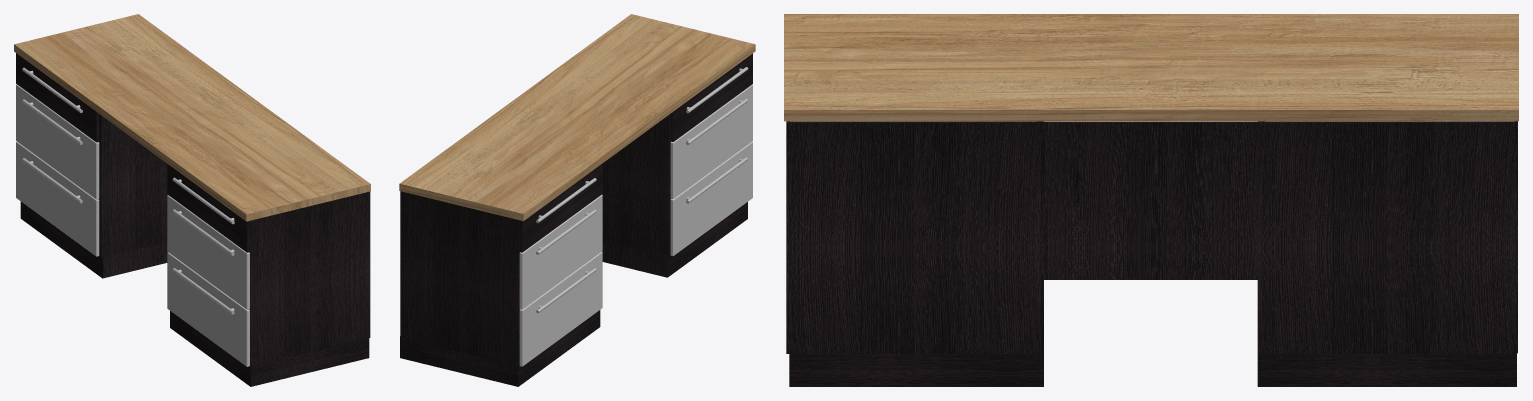
File: Kitchen Furniture 3.FBX
3 views of the same model, side by side, from view 1: azimuth 30°, elevation 25°; view 2: azimuth 150°, elevation 25°; view 3: azimuth 270°, elevation 25° (orthographic). The views are drawn at different scales.
Parts seen in each view (by area): view 1: Kitchen Furniture 3; view 2: Kitchen Furniture 3; view 3: Kitchen Furniture 3.
Boxes of the visible parts, bbox=[...] form: Kitchen Furniture 3: bbox=[14, 14, 370, 386]; Kitchen Furniture 3: bbox=[399, 14, 755, 386]; Kitchen Furniture 3: bbox=[784, 14, 1518, 386].
Bounding box in the file's own units: 65.6 × 85.56 × 206.
